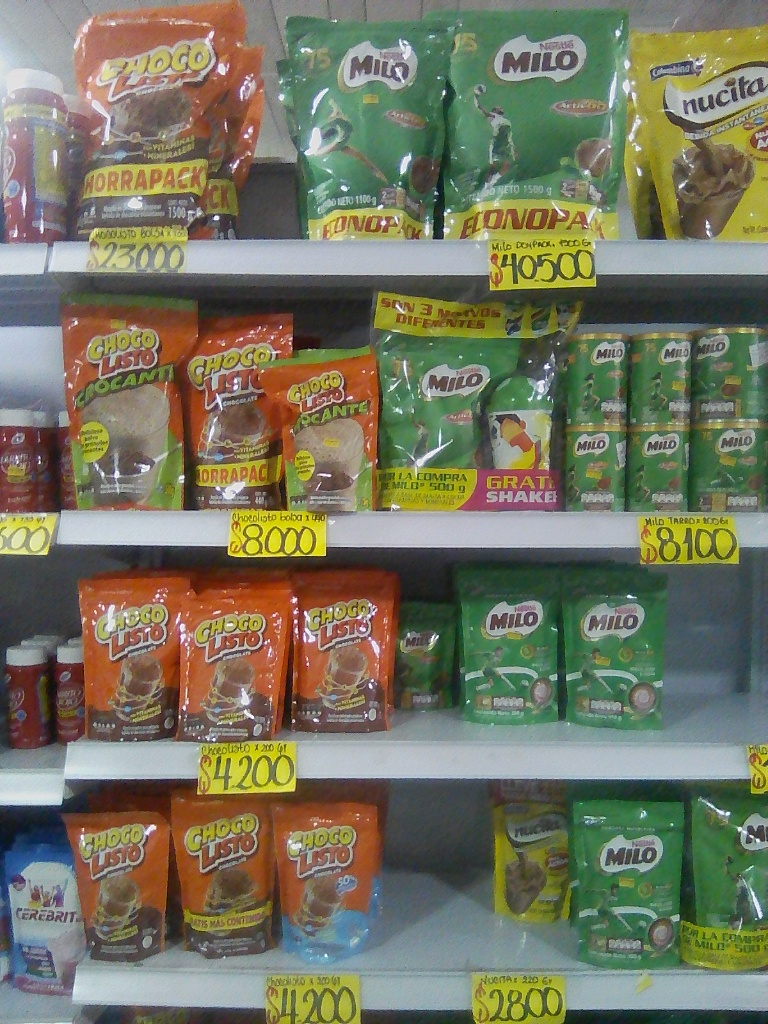COL0170102DYP25000: (266, 348, 394, 517)
COL0170102DYP50000: (58, 296, 192, 512)
COL0170103DYP1,500: (63, 8, 260, 246)
COL0170103DYP44000: (195, 311, 302, 511)
COL0170104DYP20000: (270, 786, 382, 967)
COL0170203DYP10000: (395, 602, 459, 720)
COL0170203DYP50000: (364, 291, 502, 517)
COL0170203LAT20000: (571, 326, 626, 428)
COL0170203LAT40000: (693, 326, 765, 425)
